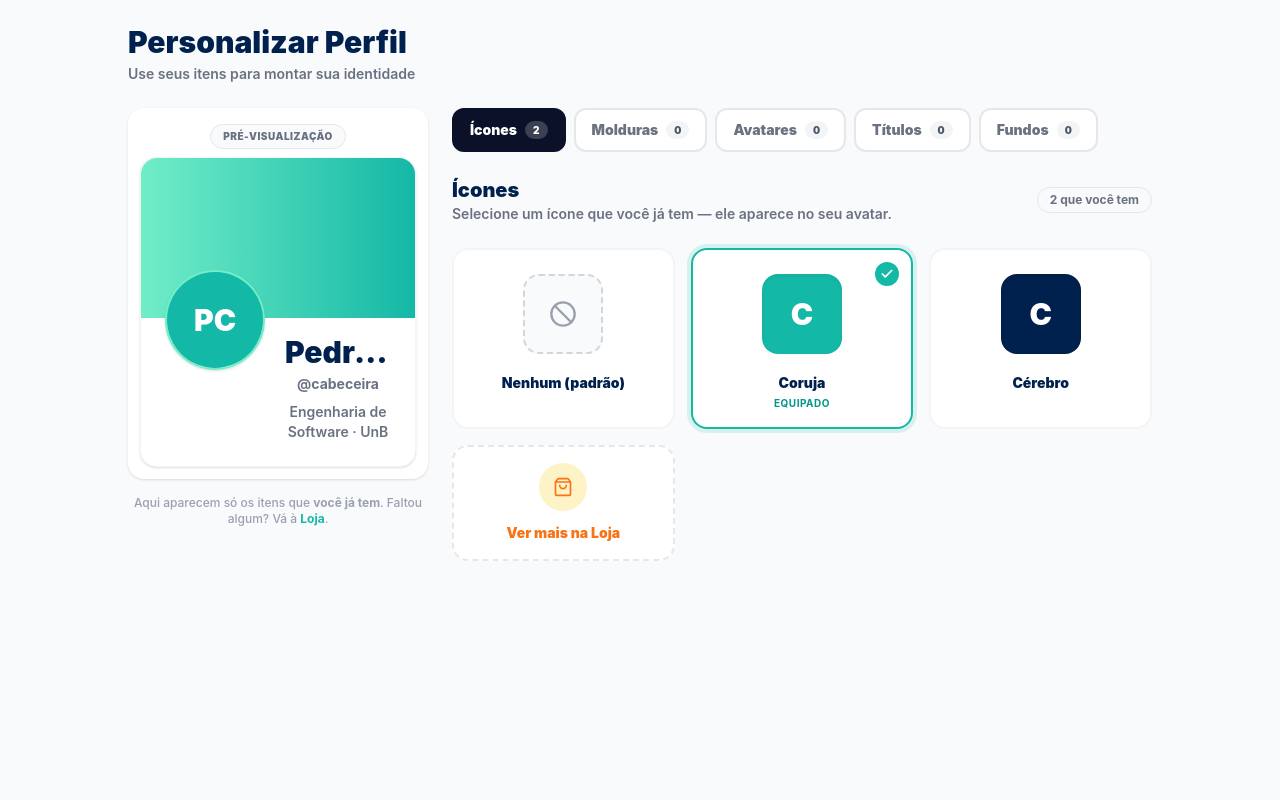
Scenario: PersonalizarPerfilPage › deve exibir a barra de salvar ao selecionar um novo item
Expected: the text "Você tem alterações não salvas" is not shown
Click the text "Cérebro" at (1041, 383), box [1012,374,1069,392]
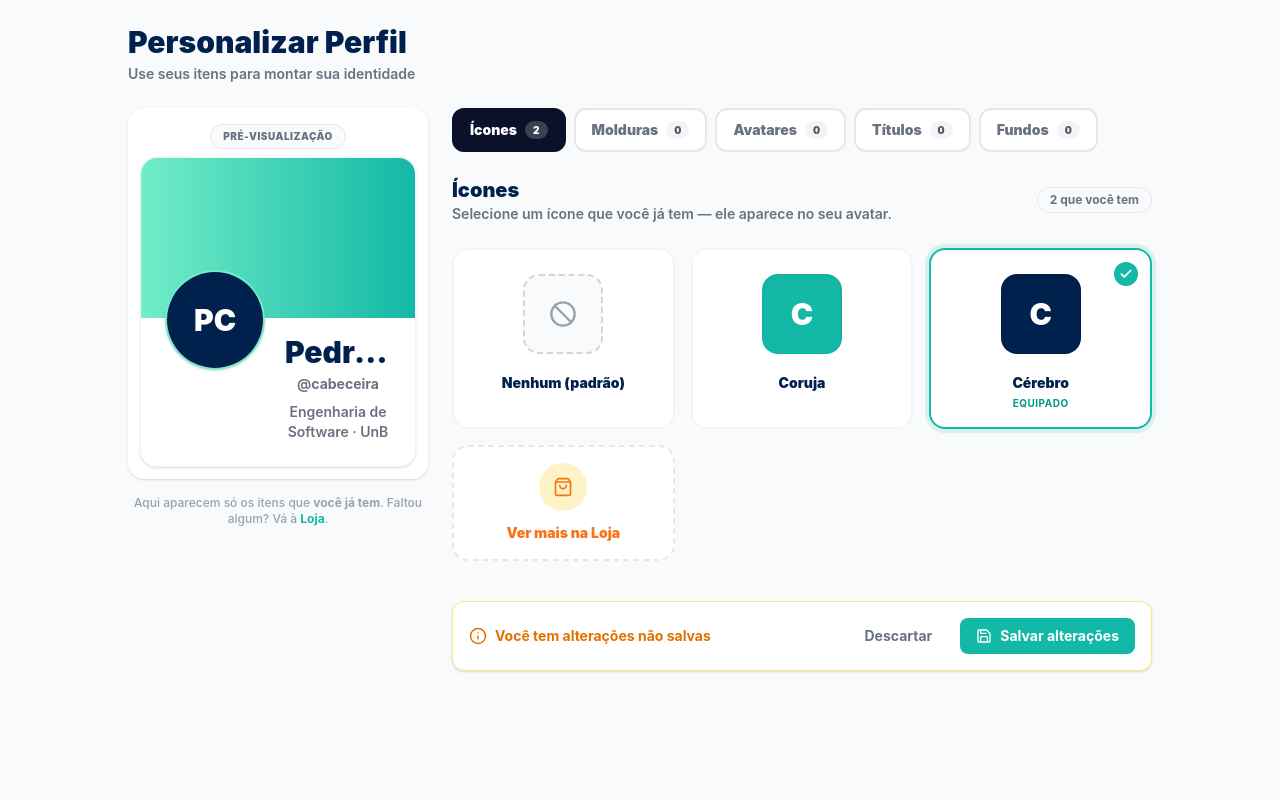
Expected: the text "Você tem alterações não salvas" is shown, [469,626,711,646]
Expected: the button "Salvar alterações" is shown, [960,618,1135,654]
